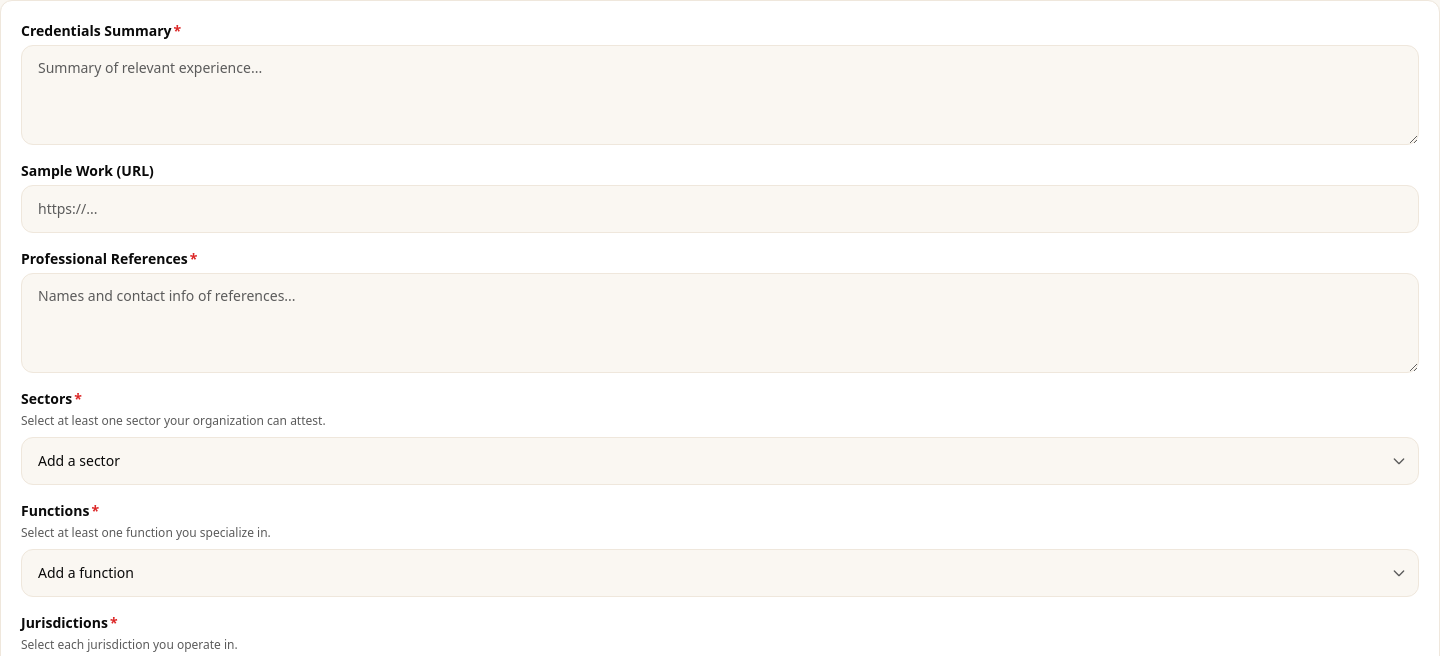
it: ApplyGate specialisation controls › submits the backend value while showing the friendly label as a chip
Select "Private Equity" in the dropdown labelled "Sectors*" at (720, 461), box [21, 437, 1419, 485]
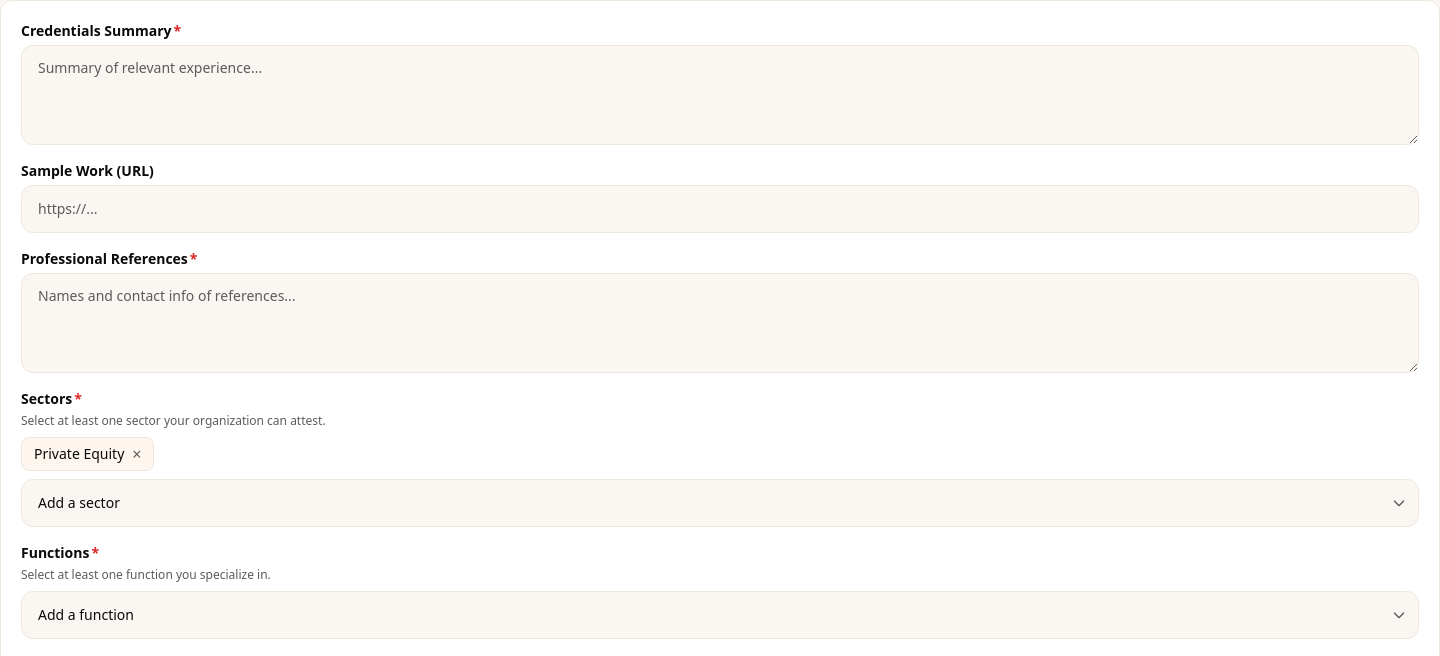
Check: the text "Private Equity" is shown, box [34, 444, 124, 463]
